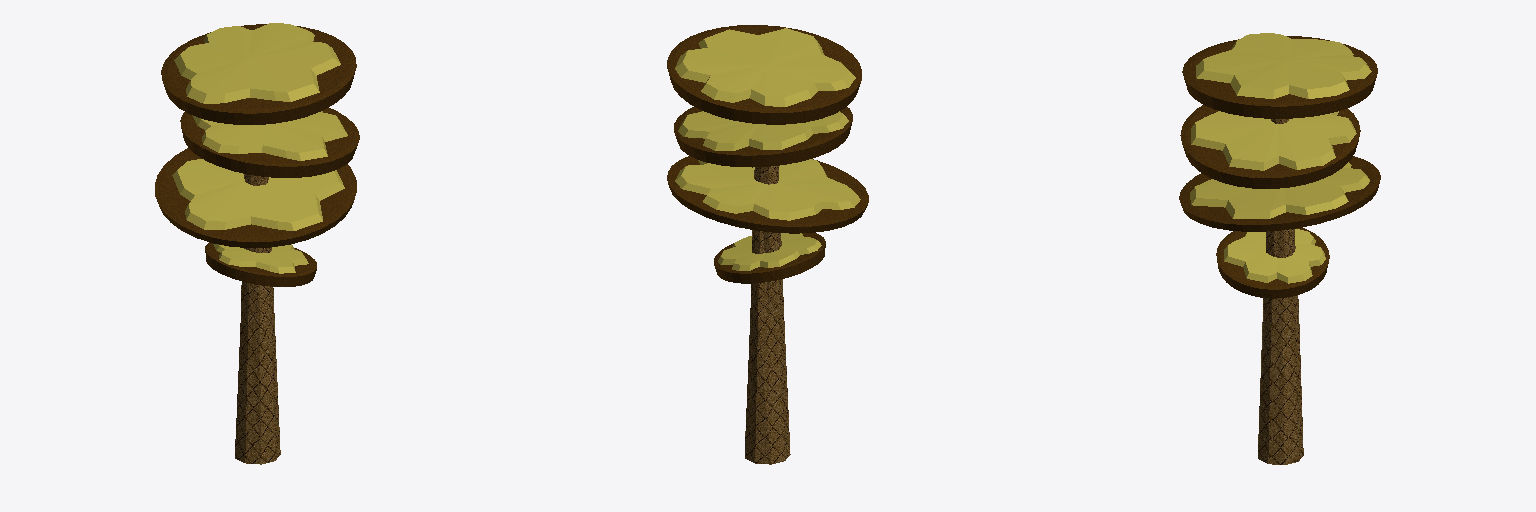
The picture shows the model from 3 angles: view 1: azimuth 30°, elevation 25°; view 2: azimuth 150°, elevation 25°; view 3: azimuth 270°, elevation 25°; orthographic projection.
Visible parts, largest first — view 1: Cylinder.007_Cylinder.008, wood_Cylinder; view 2: Cylinder.007_Cylinder.008, wood_Cylinder; view 3: Cylinder.007_Cylinder.008, wood_Cylinder.
Boxes of the visible parts, box(x1,y1,x2,y2) form: Cylinder.007_Cylinder.008: box(155, 23, 359, 286); wood_Cylinder: box(235, 174, 280, 464); Cylinder.007_Cylinder.008: box(667, 25, 868, 283); wood_Cylinder: box(745, 166, 790, 464); Cylinder.007_Cylinder.008: box(1179, 33, 1380, 298); wood_Cylinder: box(1258, 119, 1303, 464).
Size of the model in its own units: 1.44 by 3.1 by 1.43.
3 materials, 3 textured.